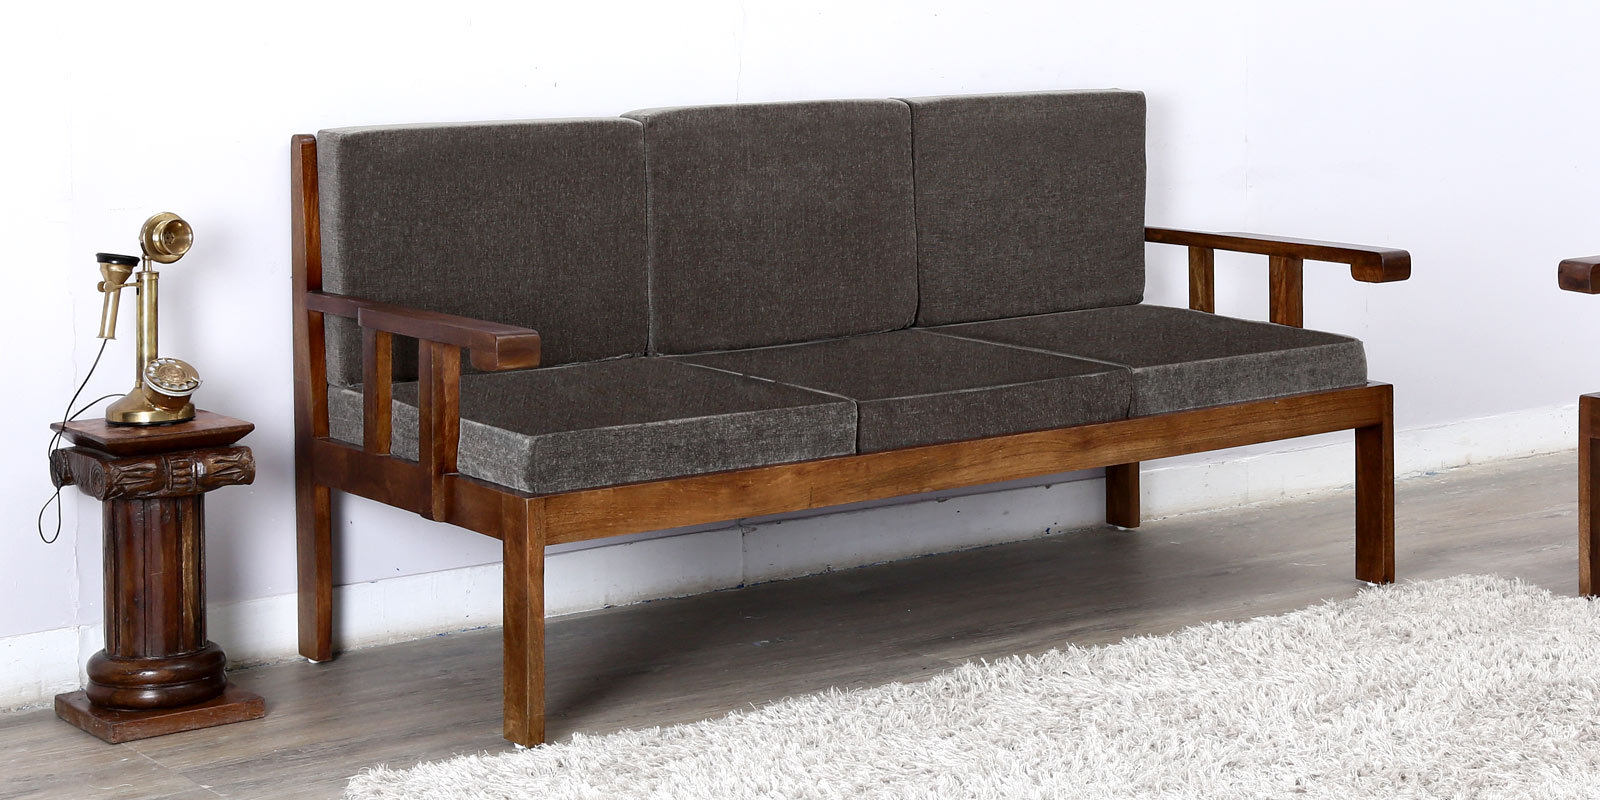Corvallis Three Seater Sofa in Provincial Teak Finish by Woodsworth: (270, 94, 1436, 750)
